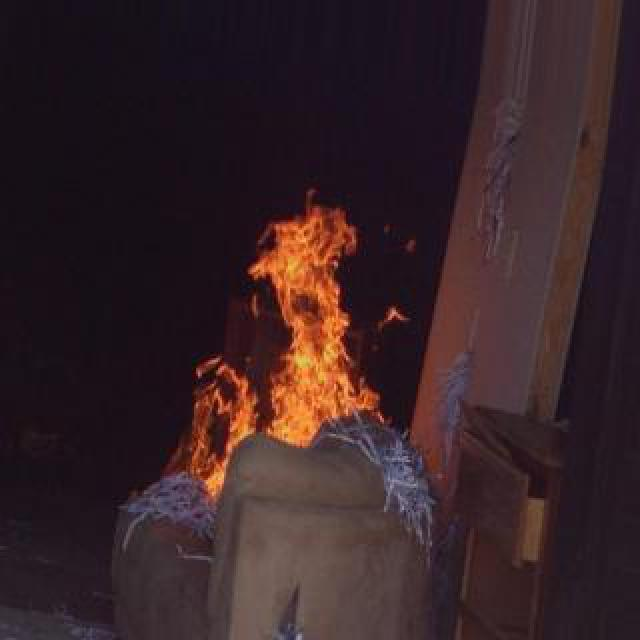Fire: (178, 186, 370, 498)
